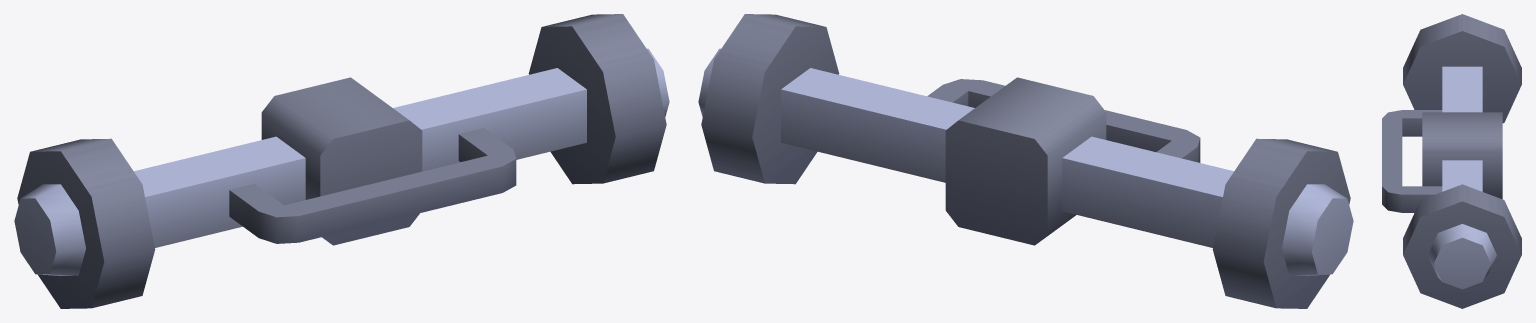
3 renders of one model, left to right at view 1: azimuth 30°, elevation 25°; view 2: azimuth 150°, elevation 25°; view 3: azimuth 270°, elevation 25°, orthographic. The views are drawn at different scales.
Visible parts, largest first — view 1: debris-drivetrain-axle; view 2: debris-drivetrain-axle; view 3: debris-drivetrain-axle.
Boxes of the visible parts, left/top/right/bottom form: debris-drivetrain-axle: left=14, top=14, right=669, bottom=308; debris-drivetrain-axle: left=698, top=14, right=1353, bottom=308; debris-drivetrain-axle: left=1382, top=14, right=1521, bottom=308.
Bounding box in the file's own units: 1.2 × 0.296 × 0.348.
Materials: 1 (1 with a texture image).
